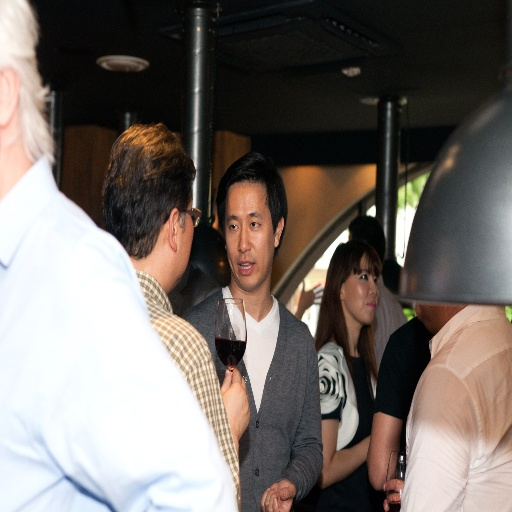hand: (220, 363, 251, 443), (259, 481, 296, 511), (297, 277, 326, 312), (382, 477, 404, 511)
